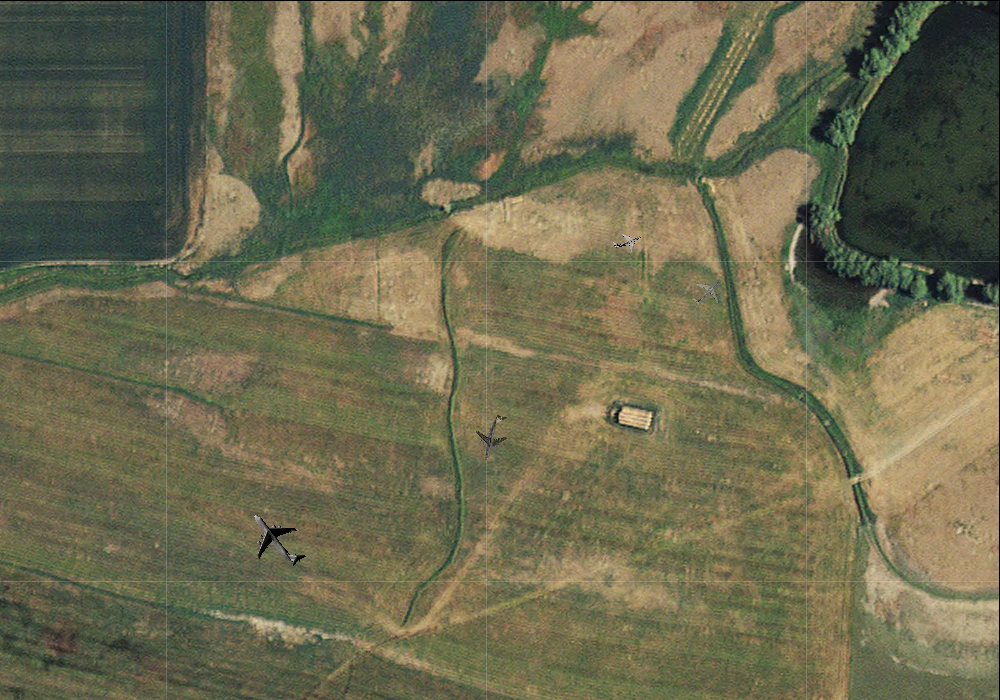plane: (234, 496, 319, 582), (468, 409, 518, 465), (684, 268, 730, 314), (609, 224, 645, 258)
